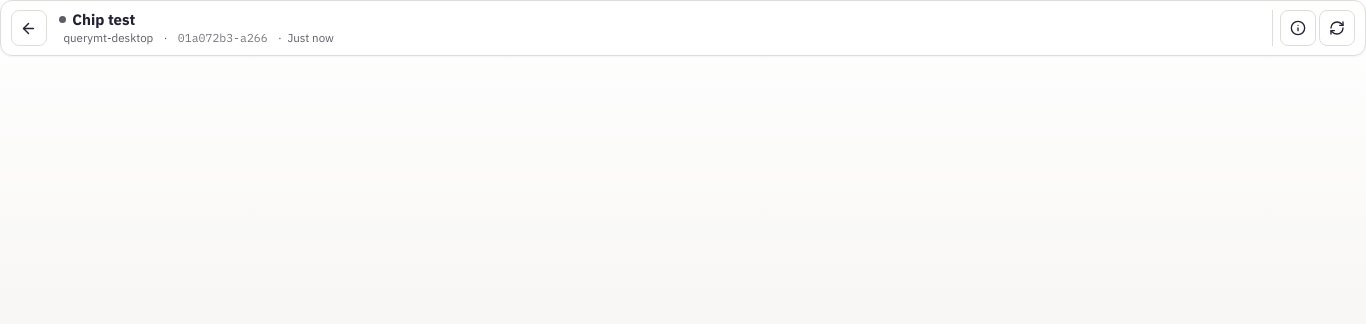
Test case: SessionHeader › shows a short session id chip that copies the full id
Expected: the element with class "session-header-meta" is shown, [59, 31, 334, 45]
Click the button named "Copy session ID": [223, 38] box [173, 31, 272, 45]
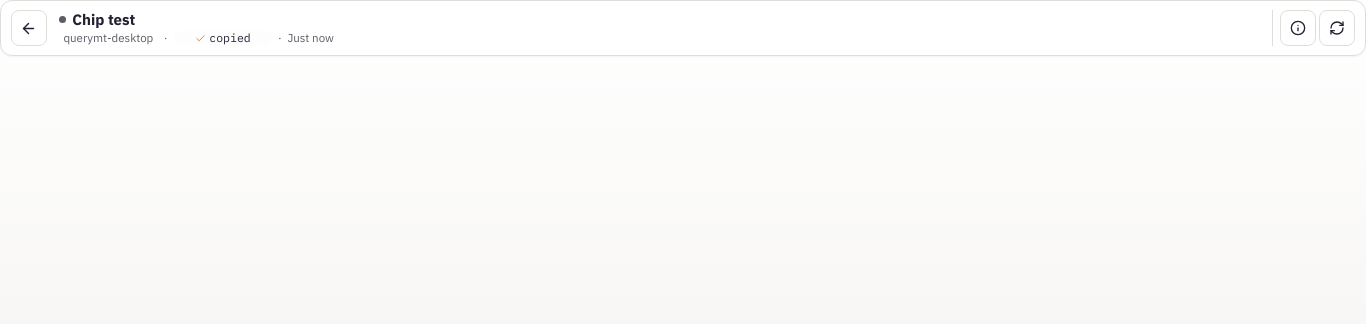
Expected: the text "01a072b3-a266" is shown, [178, 31, 268, 45]
Expected: the message reads "copied", [209, 31, 251, 45]
